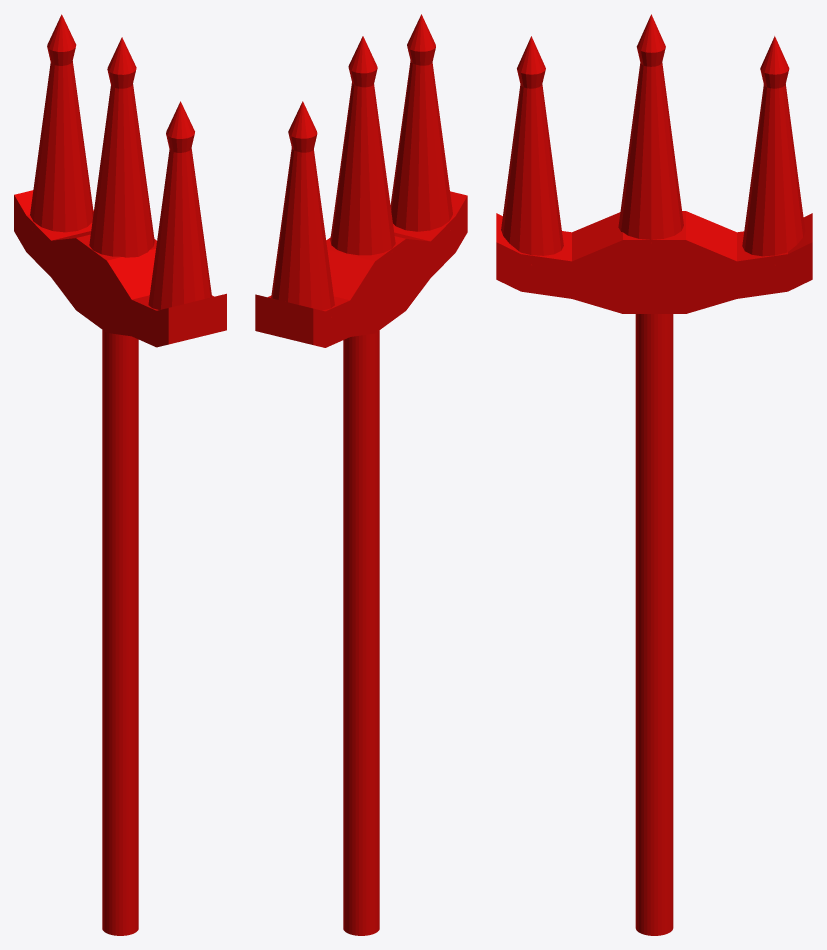
File: pitchfork.fbx
The picture shows the model from 3 angles, left to right: view 1: azimuth 30°, elevation 25°; view 2: azimuth 150°, elevation 25°; view 3: azimuth 270°, elevation 25°; orthographic projection. The views are drawn at different scales.
Parts seen in each view (by area): view 1: Pitchfork; view 2: Pitchfork; view 3: Pitchfork.
Part boxes in pixels (<box>): Pitchfork: <box>14,14,226,935</box>; Pitchfork: <box>255,14,467,935</box>; Pitchfork: <box>496,14,812,935</box>.
Size of the model in its own units: 19.74 by 288 by 90.38.
